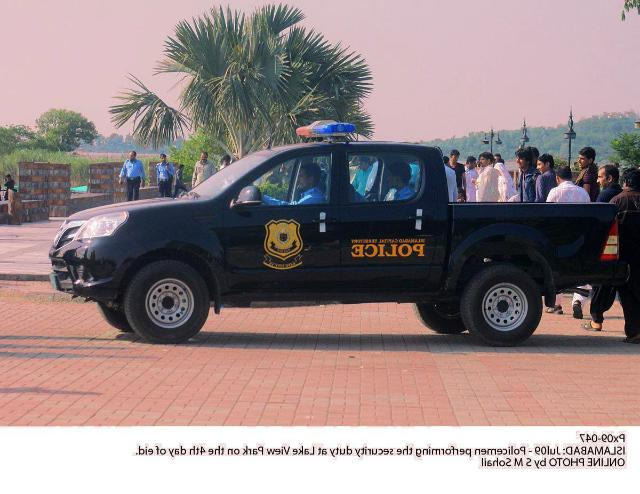police: (47, 120, 623, 349)
